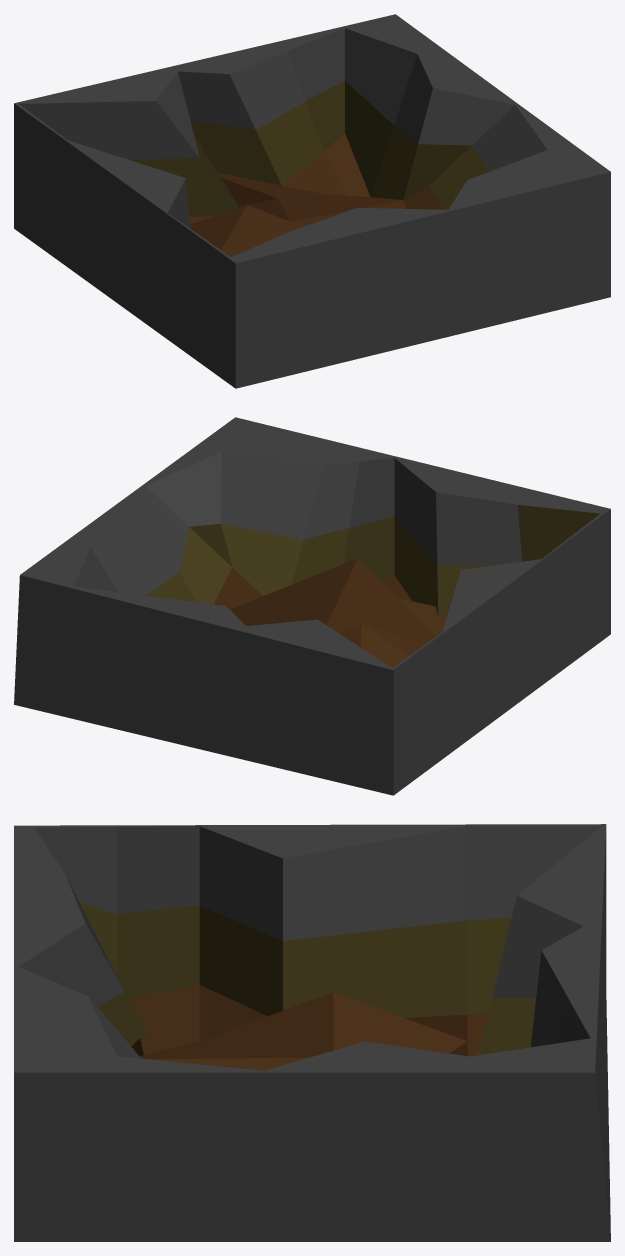
The model's file is hole.fbx.
3 renders of one model, top to bottom at view 1: azimuth 30°, elevation 25°; view 2: azimuth 150°, elevation 25°; view 3: azimuth 270°, elevation 25°, orthographic. The views are drawn at different scales.
Visible parts, largest first — view 1: dziraf; view 2: dziraf; view 3: dziraf.
Boxes of the visible parts, x1,y1,x2,y2 form: dziraf: (14, 14, 610, 388); dziraf: (14, 417, 610, 795); dziraf: (14, 824, 610, 1241).
Size of the model in its own units: 219 by 69.6 by 223.
